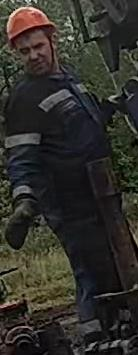gloves: (3, 191, 39, 250)
helmet: (5, 5, 56, 47)
vest: (5, 71, 107, 238)
